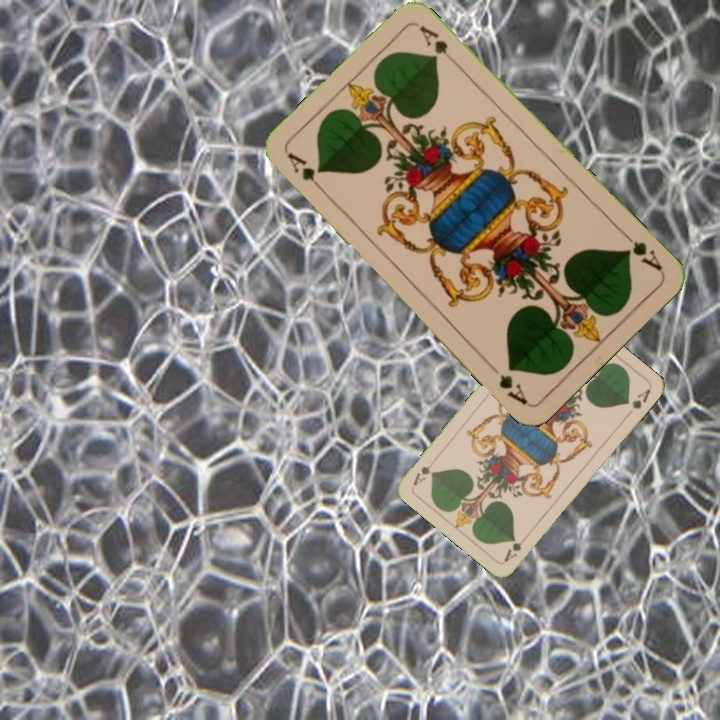GA: (617, 227, 665, 274), (283, 148, 329, 197), (500, 530, 531, 565)
